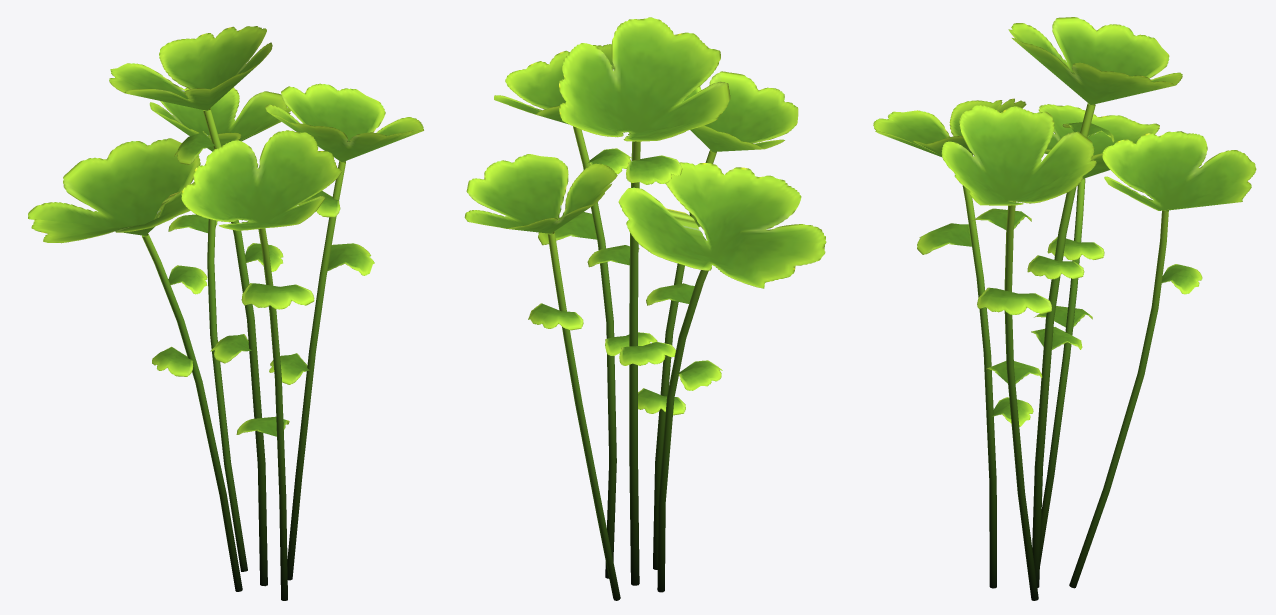
The model's file is Clover_2.gltf.
The picture shows the model from 3 angles, left to right: view 1: azimuth 30°, elevation 25°; view 2: azimuth 150°, elevation 25°; view 3: azimuth 270°, elevation 25°; orthographic projection. The views are drawn at different scales.
Visible parts, largest first — view 1: Clover_2; view 2: Clover_2; view 3: Clover_2.
Part boxes in pixels (x1,y1,x2,y2): Clover_2: (28, 26, 423, 600); Clover_2: (464, 17, 826, 600); Clover_2: (873, 17, 1256, 600).
Bounding box in the file's own units: 0.8511 × 1.26 × 0.8366.
Materials: 1 (1 with a texture image).
